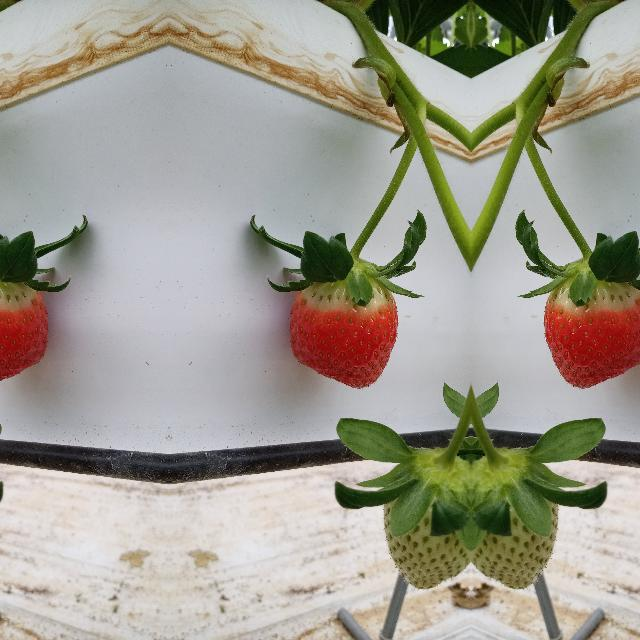Health_100: (286, 276, 399, 388), (541, 276, 640, 388), (0, 276, 49, 388)
Health_25: (380, 434, 470, 588), (472, 434, 560, 588)
